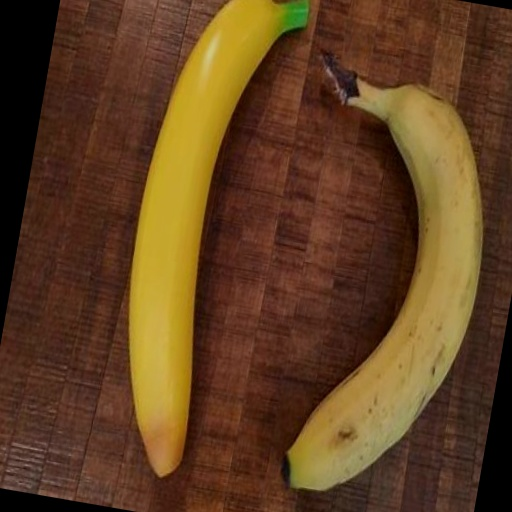fruit: (283, 53, 482, 490)
